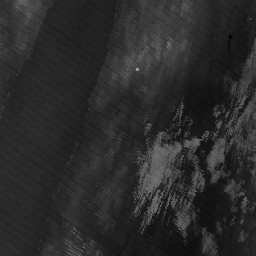Target: (134, 67, 139, 72)
